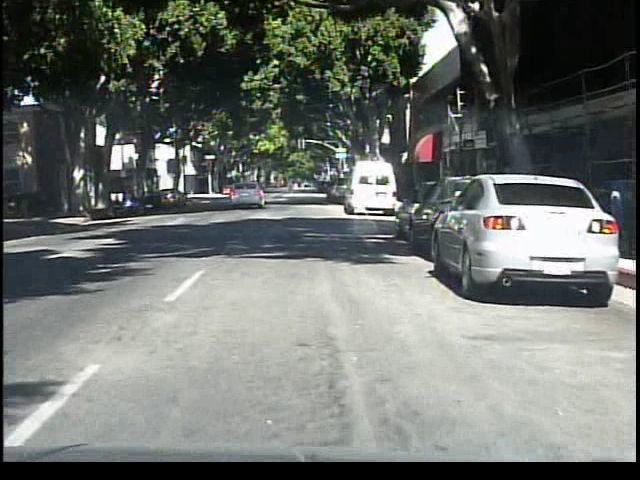person: (278, 170, 299, 202)
